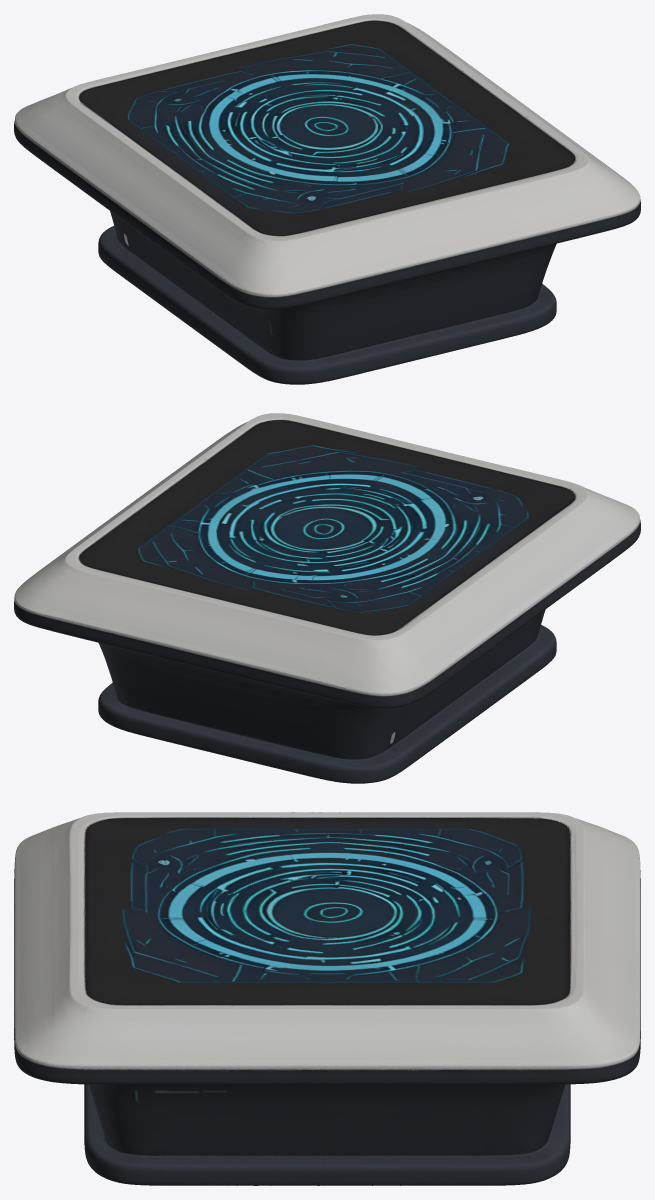
The model's file is simple platform.glb.
3 views of the same model, one above another, from view 1: azimuth 30°, elevation 25°; view 2: azimuth 150°, elevation 25°; view 3: azimuth 270°, elevation 25° (orthographic). The views are drawn at different scales.
Parts seen in each view (by area): view 1: tripo_node_0cdb8642-9030-48ce-b065-cf317e133e88; view 2: tripo_node_0cdb8642-9030-48ce-b065-cf317e133e88; view 3: tripo_node_0cdb8642-9030-48ce-b065-cf317e133e88.
Boxes of the visible parts, left/top/right/bottom form: tripo_node_0cdb8642-9030-48ce-b065-cf317e133e88: left=14, top=14, right=640, bottom=384; tripo_node_0cdb8642-9030-48ce-b065-cf317e133e88: left=14, top=413, right=640, bottom=783; tripo_node_0cdb8642-9030-48ce-b065-cf317e133e88: left=14, top=812, right=640, bottom=1185.
Bounding box in the file's own units: 0.9002 × 0.4516 × 1.
Materials: 1 (1 with a texture image).
